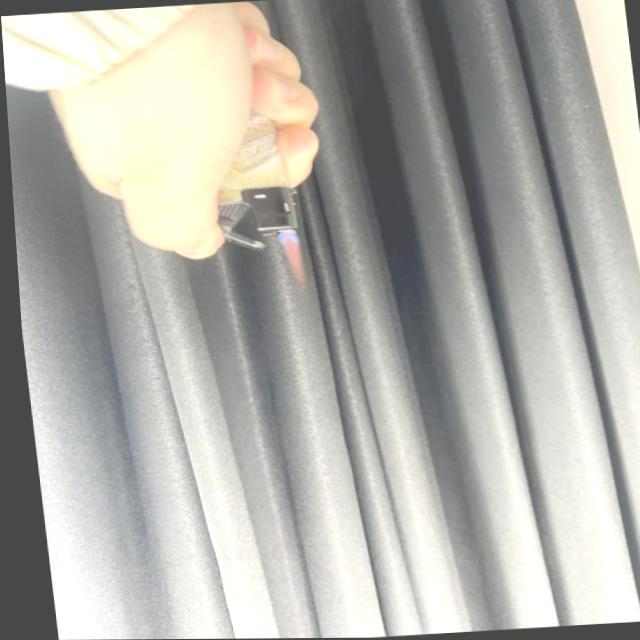Fire: (274, 229, 303, 285)
